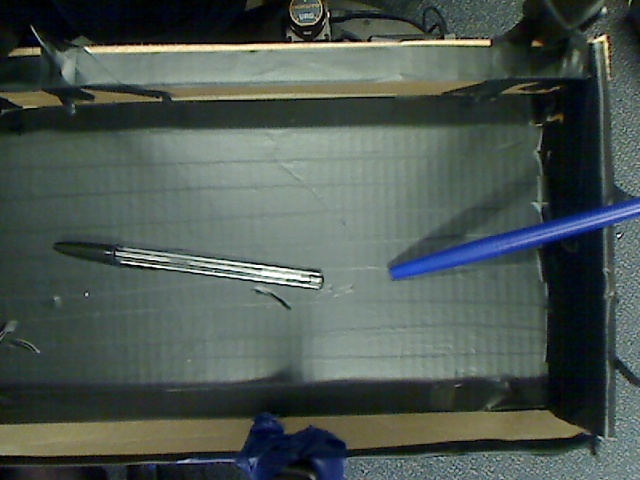pen: (368, 184, 640, 297), (39, 220, 342, 299)
